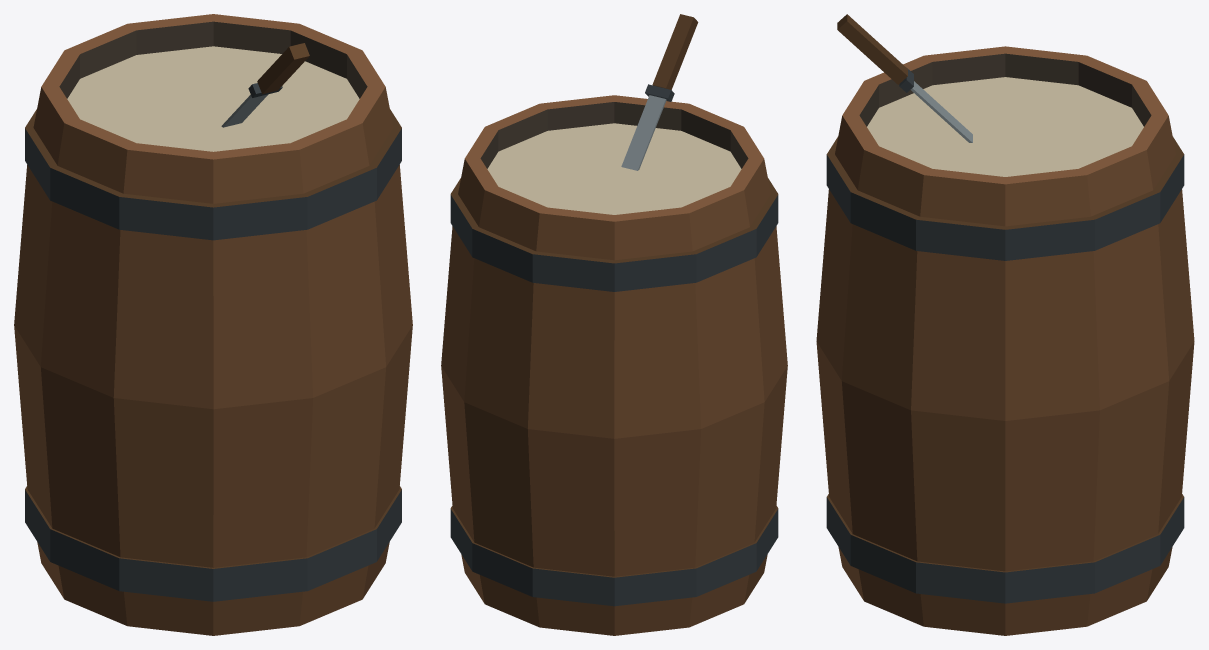
File: knife-barrel.glb
The picture shows the model from 3 angles, left to right: view 1: azimuth 30°, elevation 25°; view 2: azimuth 150°, elevation 25°; view 3: azimuth 270°, elevation 25°; orthographic projection. The views are drawn at different scales.
Parts seen in each view (by area): view 1: knife-barrel; view 2: knife-barrel; view 3: knife-barrel.
Part boxes in pixels (bbox=[...]): knife-barrel: bbox=[14, 14, 412, 635]; knife-barrel: bbox=[441, 14, 787, 635]; knife-barrel: bbox=[816, 14, 1194, 635].
Size of the model in its own units: 0.44 by 0.7056 by 0.44.
1 material, 1 textured.
